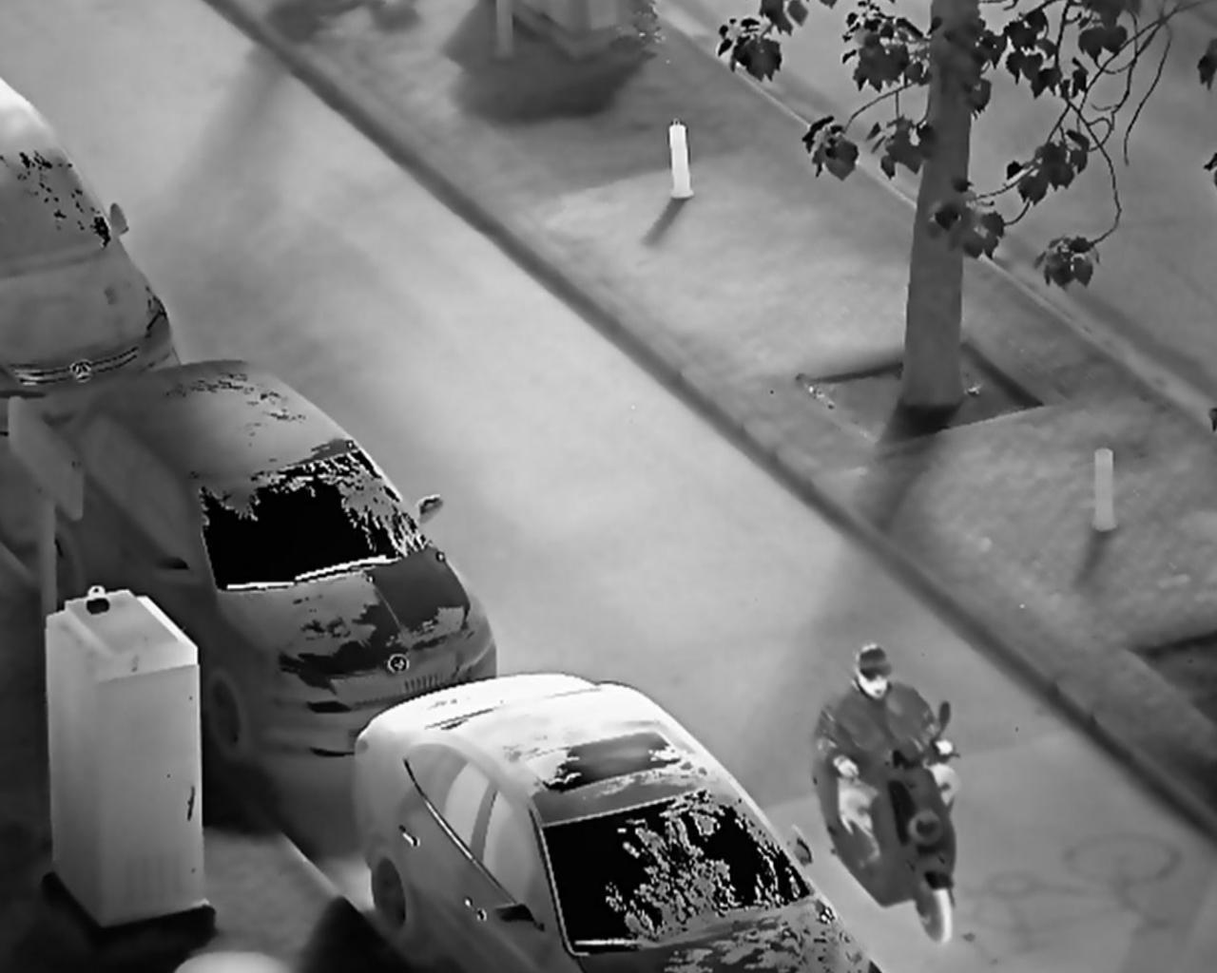person: (815, 640, 966, 869)
